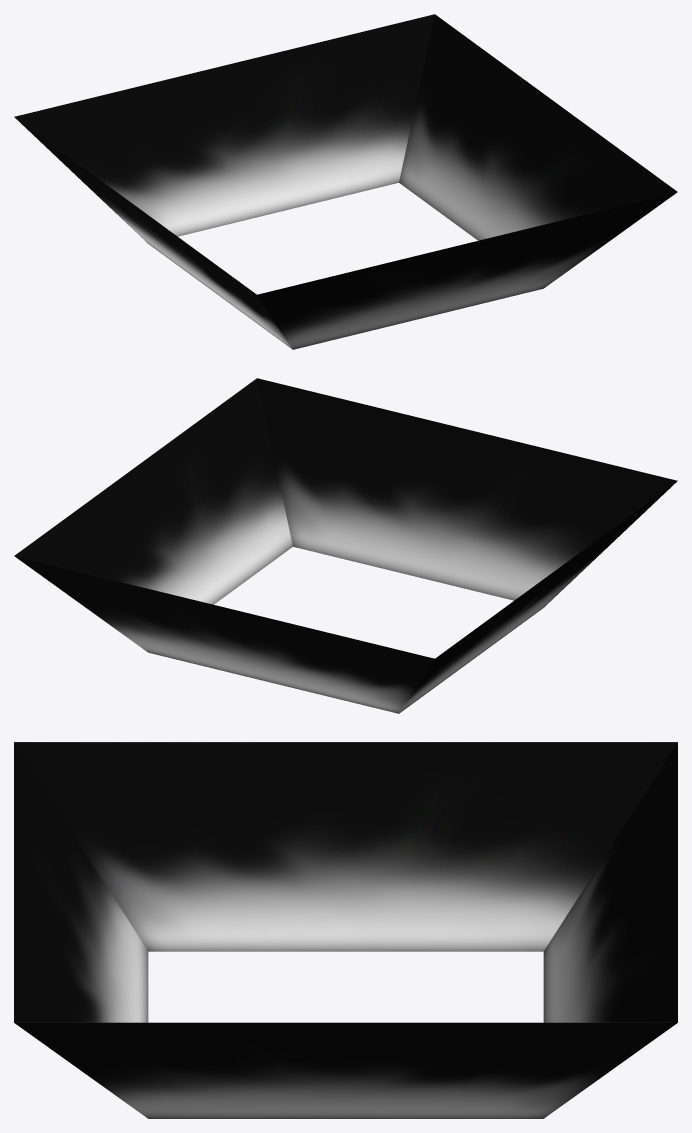
3 views of the same model, one above another, from view 1: azimuth 30°, elevation 25°; view 2: azimuth 150°, elevation 25°; view 3: azimuth 270°, elevation 25° (orthographic). The views are drawn at different scales.
Visible parts, largest first — view 1: Box001; view 2: Box001; view 3: Box001.
Part boxes in pixels (<box>): Box001: <box>14,14,677,349</box>; Box001: <box>14,378,677,713</box>; Box001: <box>14,742,677,1118</box>.
Bounding box in the file's own units: 0.1679 × 0.0426 × 0.1679.
1 material, 1 textured.
